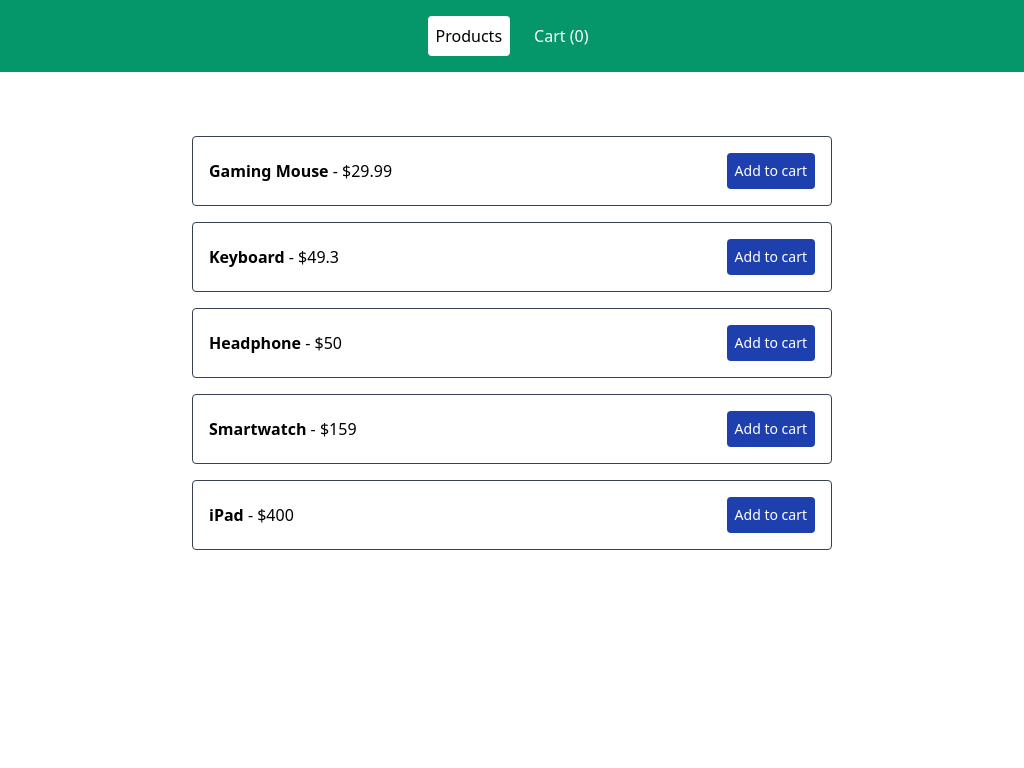
Test: Shoppee Cart › should list all the product in the cart page with quantity
Click the button "Add to cart" in the row of "- $29.99".
click(771, 171)  # box [727, 153, 815, 189]
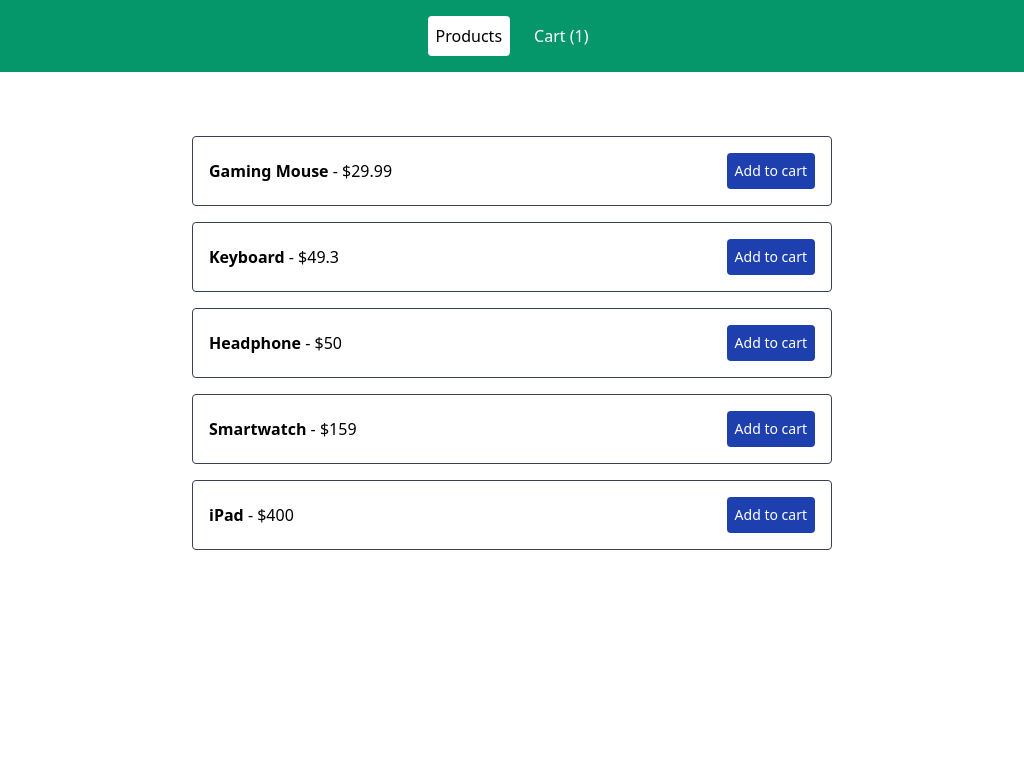
Click the button "Add to cart" in the row of "- $29.99".
click(771, 171)  # box [727, 153, 815, 189]
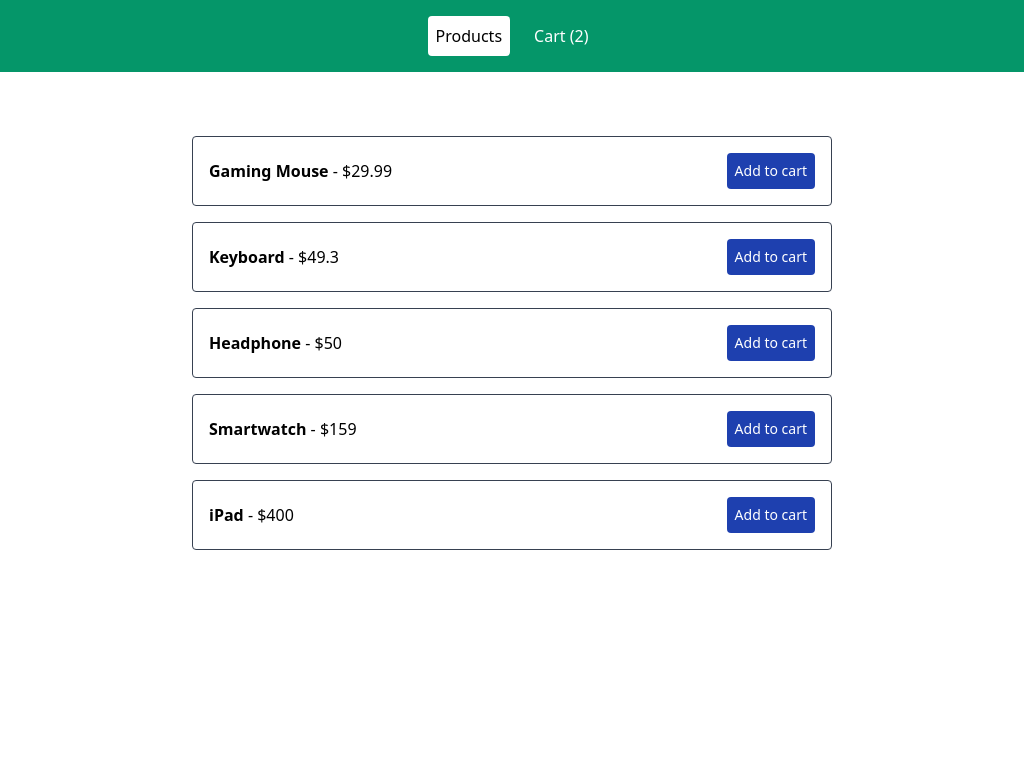
Click the link with test id "nav-cart".
click(561, 36)  # box [534, 25, 588, 47]
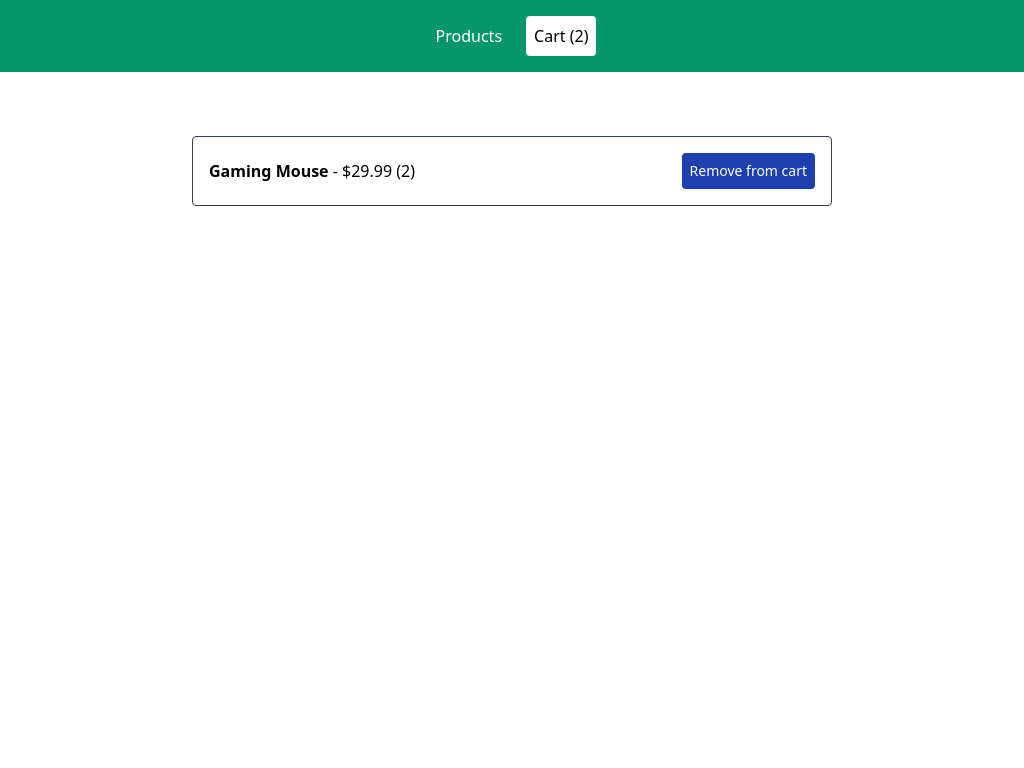
expect the text "Gaming Mouse" is shown: met, box [209, 160, 329, 182]
expect the number of elements with test id "product-item" is 1: met, box [192, 136, 832, 206]
expect the text "(2)" is shown: met, box [209, 159, 415, 183]
